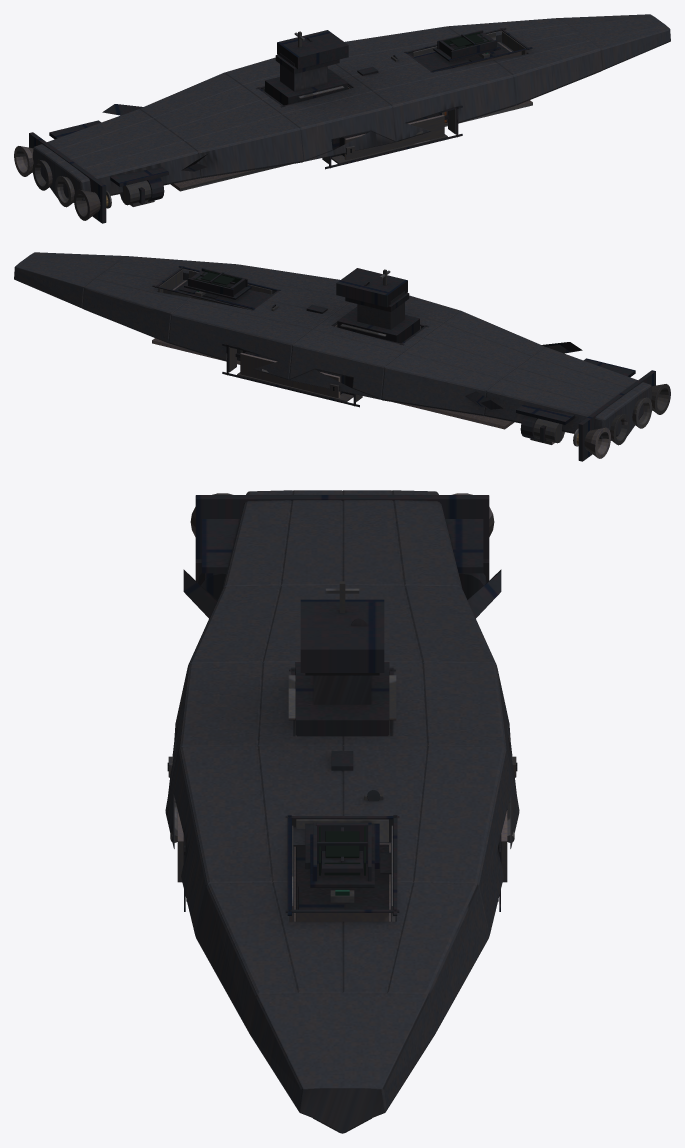
File: colossus_production_v1_lod1.glb
3 renders of one model, top to bottom at view 1: azimuth 30°, elevation 25°; view 2: azimuth 150°, elevation 25°; view 3: azimuth 270°, elevation 25°, orthographic. The views are drawn at different scales.
Visible parts, largest first — view 1: LOD1_Hull, LOD1_Armor, LOD1_Mechanical, LOD1_Canopy; view 2: LOD1_Hull, LOD1_Armor, LOD1_Mechanical, LOD1_Canopy; view 3: LOD1_Hull, LOD1_Armor, LOD1_Mechanical, LOD1_Canopy.
Part boxes in pixels (x1,y1,x2,y2): LOD1_Hull: (32,14,670,200); LOD1_Armor: (29,28,532,223); LOD1_Mechanical: (14,31,532,220); LOD1_Canopy: (443,32,491,49); LOD1_Hull: (14,252,652,438); LOD1_Armor: (152,266,655,461); LOD1_Mechanical: (152,269,670,458); LOD1_Canopy: (193,270,241,287); LOD1_Hull: (165,490,519,1133); LOD1_Armor: (183,495,501,915); LOD1_Mechanical: (168,493,516,921); LOD1_Canopy: (319,826,365,875).
Size of what is drawn, in the model's own units: 23.46 by 4.62 by 5.91.
9 materials, 9 textured.
